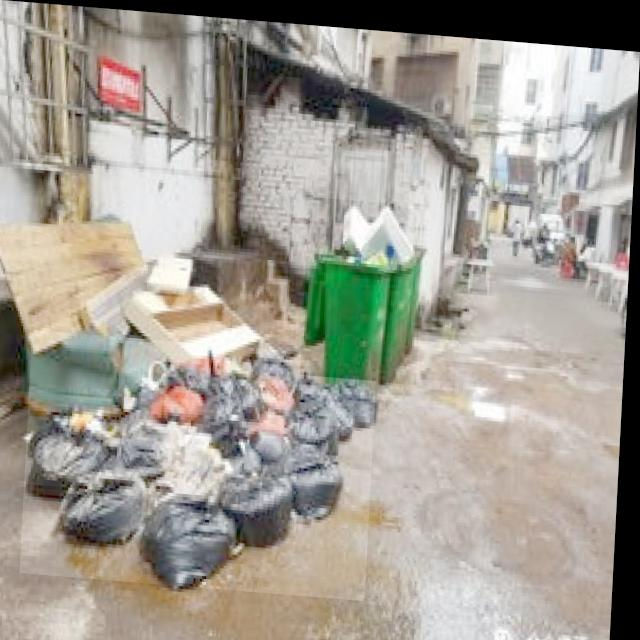garbage: (26, 329, 381, 594)
overflow: (304, 192, 396, 375), (382, 200, 427, 378)
